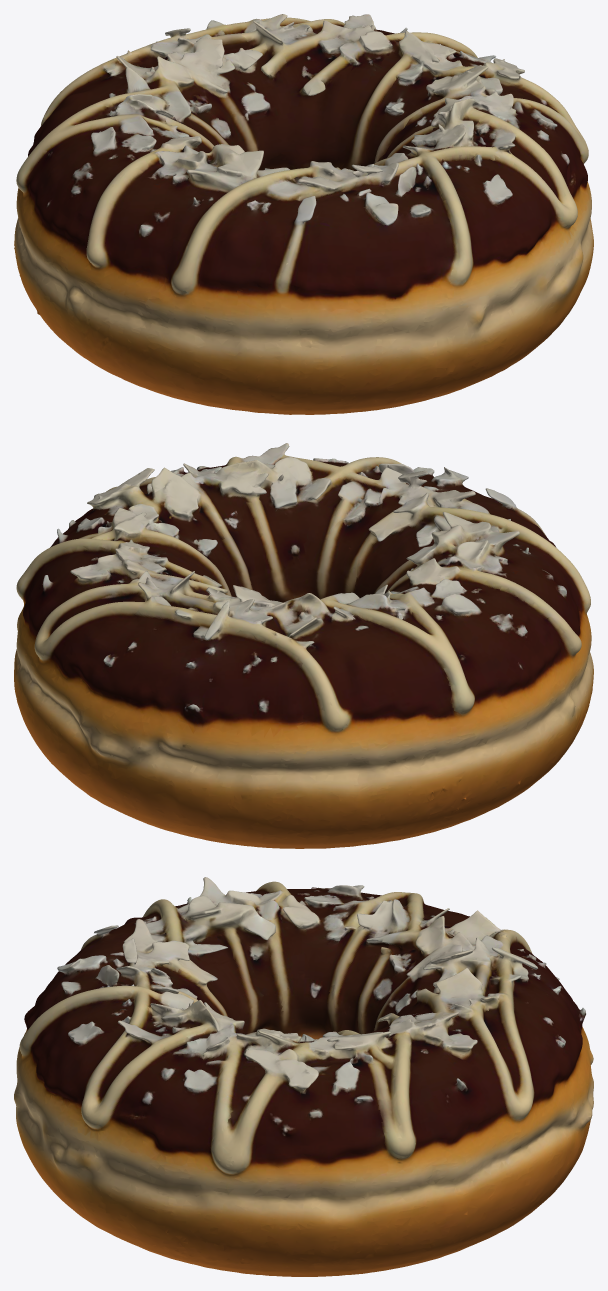
The model's file is chocolate donuts with decorations.fbx.
3 views of the same model, one above another, from view 1: azimuth 30°, elevation 25°; view 2: azimuth 150°, elevation 25°; view 3: azimuth 270°, elevation 25° (orthographic).
Visible parts, largest first — view 1: chocolate donuts with decorations; view 2: chocolate donuts with decorations; view 3: chocolate donuts with decorations.
Boxes of the visible parts, x1,y1,x2,y2 form: chocolate donuts with decorations: [14, 14, 593, 414]; chocolate donuts with decorations: [14, 443, 593, 848]; chocolate donuts with decorations: [14, 877, 593, 1276].
Size of the model in its own units: 99.99 by 46.07 by 99.99.
1 material, 1 textured.
